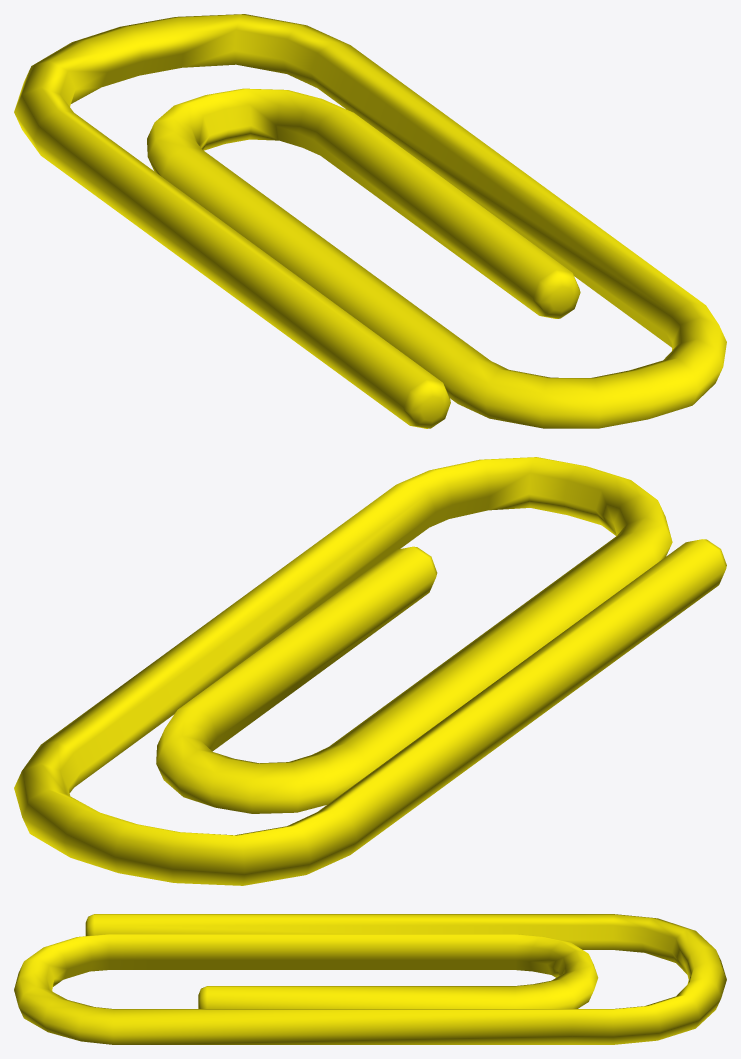
Rendered from kurippu.fbx.
3 views of the same model, one above another, from view 1: azimuth 30°, elevation 25°; view 2: azimuth 150°, elevation 25°; view 3: azimuth 270°, elevation 25° (orthographic). The views are drawn at different scales.
Parts seen in each view (by area): view 1: pCylinder5; view 2: pCylinder5; view 3: pCylinder5.
Boxes of the visible parts, x1,y1,x2,y2 form: pCylinder5: (14,14,726,428); pCylinder5: (14,457,726,885); pCylinder5: (14,914,726,1044).
Size of the model in its own units: 2.19 by 0.3186 by 5.93.
Materials: 1 (1 with a texture image).
